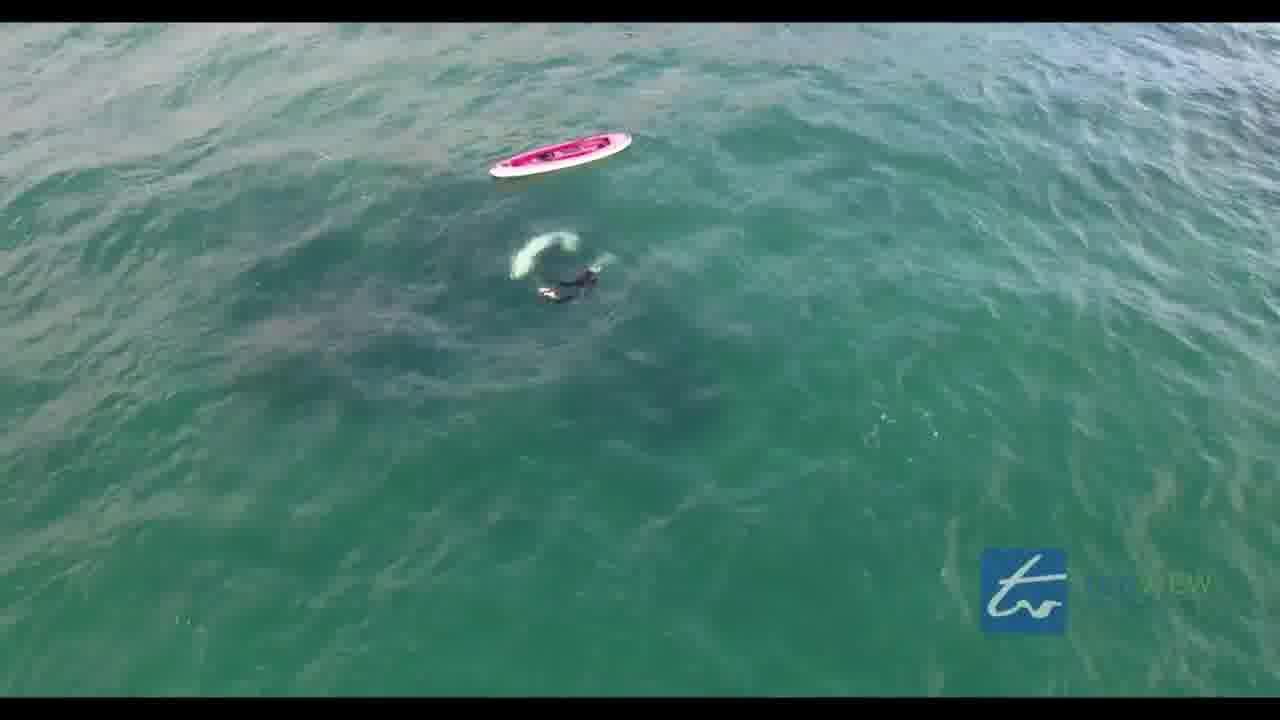swimmer: (530, 274, 604, 305)
